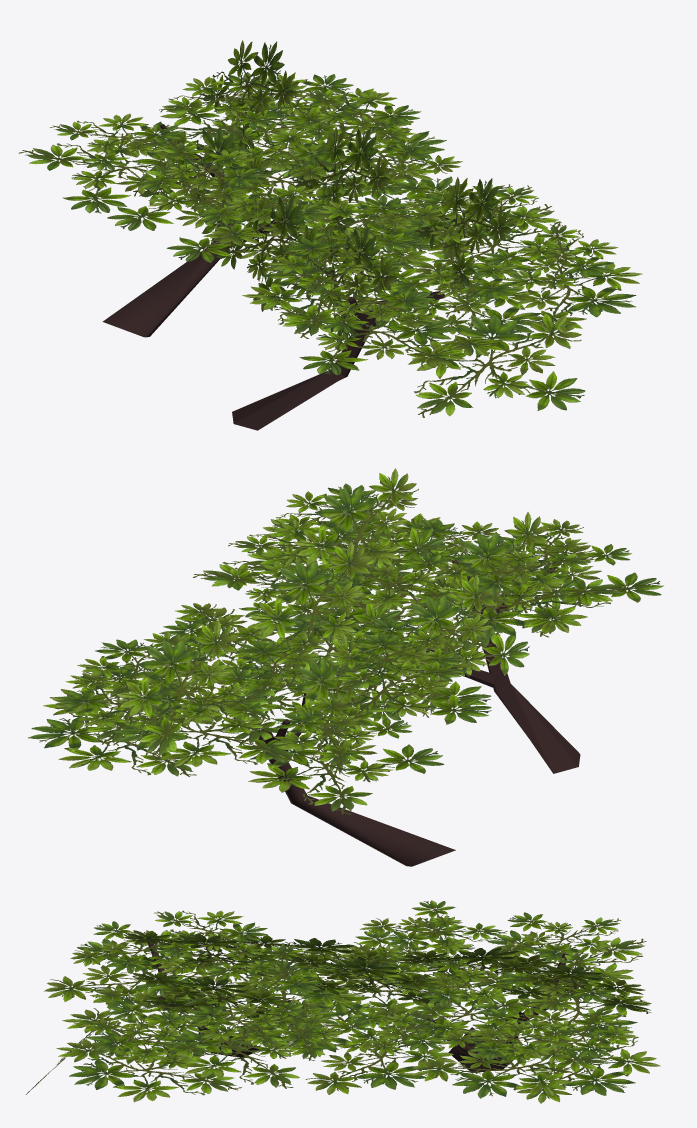
File: Trees.FBX
The picture shows the model from 3 angles, top to bottom: view 1: azimuth 30°, elevation 25°; view 2: azimuth 150°, elevation 25°; view 3: azimuth 270°, elevation 25°; orthographic projection. The views are drawn at different scales.
Visible parts, largest first — view 1: Trees_01, Trees02; view 2: Trees02, Trees_01; view 3: Trees02, Trees_01.
Part boxes in pixels (x1,y1,x2,y2): Trees_01: [232, 177, 642, 430]; Trees02: [18, 40, 511, 337]; Trees02: [28, 541, 529, 866]; Trees_01: [193, 468, 663, 773]; Trees02: [240, 900, 660, 1103]; Trees_01: [26, 910, 439, 1102].
Size of the model in its own units: 6.58 by 3.2 by 10.09.
1 material, 1 textured.
